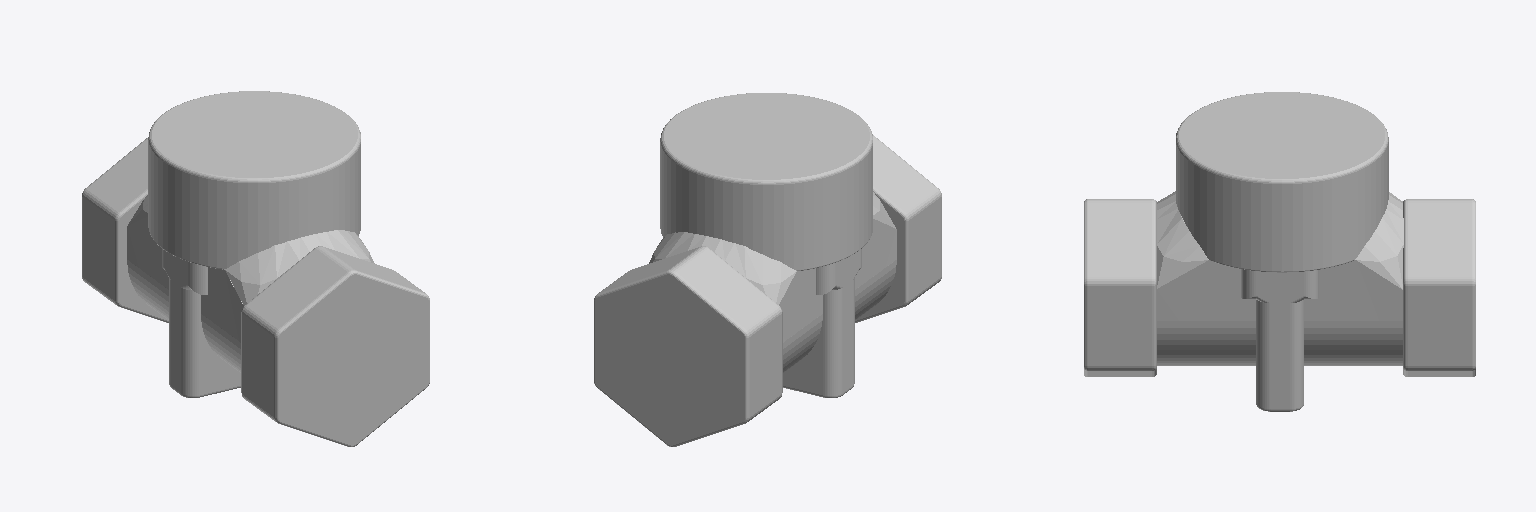
The model's file is zlatarura l.obj.
The picture shows the model from 3 angles: view 1: azimuth 30°, elevation 25°; view 2: azimuth 150°, elevation 25°; view 3: azimuth 270°, elevation 25°; orthographic projection.
Parts seen in each view (by area): view 1: Cube.013_Cube.029; view 2: Cube.013_Cube.029; view 3: Cube.013_Cube.029.
Part boxes in pixels (bbox=[...]): Cube.013_Cube.029: bbox=[82, 91, 429, 446]; Cube.013_Cube.029: bbox=[594, 93, 941, 446]; Cube.013_Cube.029: bbox=[1084, 92, 1475, 411].
Bounding box in the file's own units: 0.22 × 0.2745 × 0.4046.